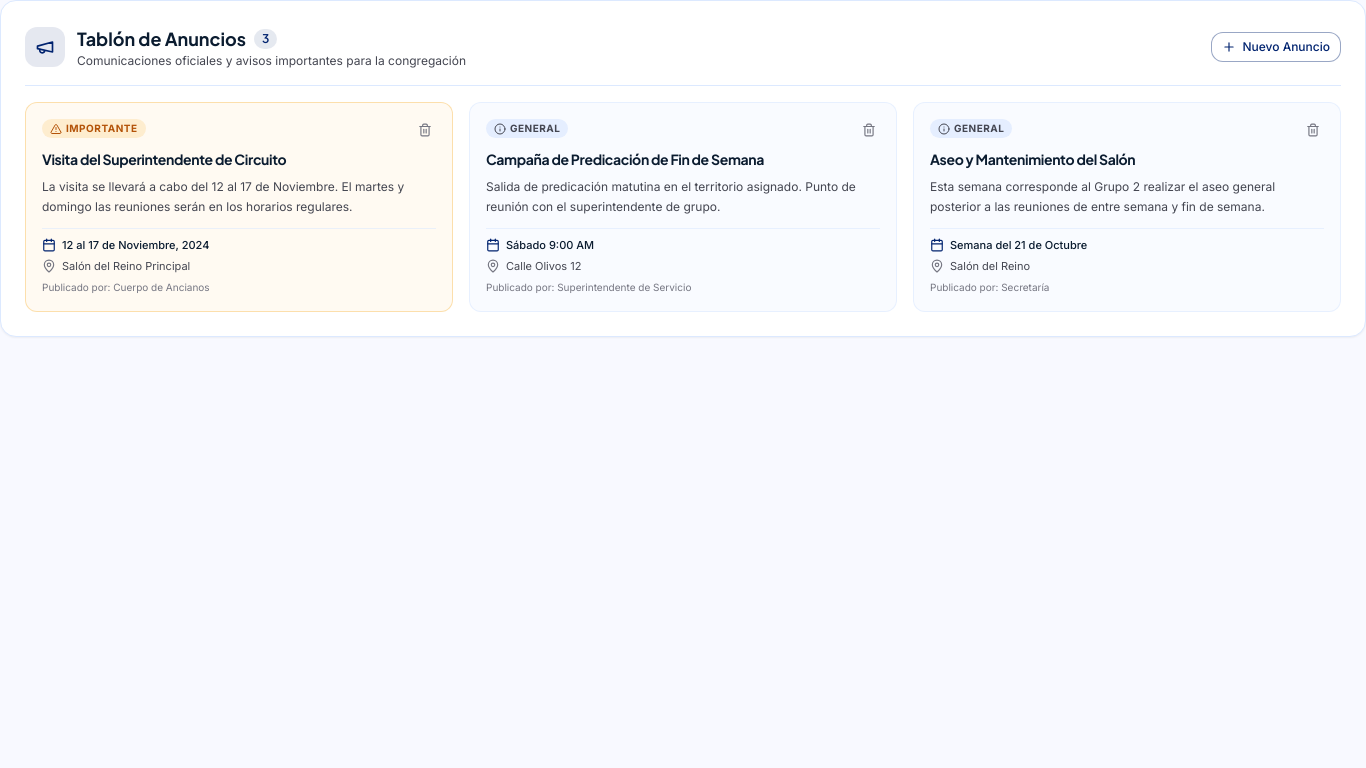
Test: AnnouncementsBoard organism › muestra el botón Nuevo Anuncio si canManage es true y permite crear uno nuevo
Click the button "Nuevo Anuncio" at (1276, 47), box [1211, 32, 1341, 62]
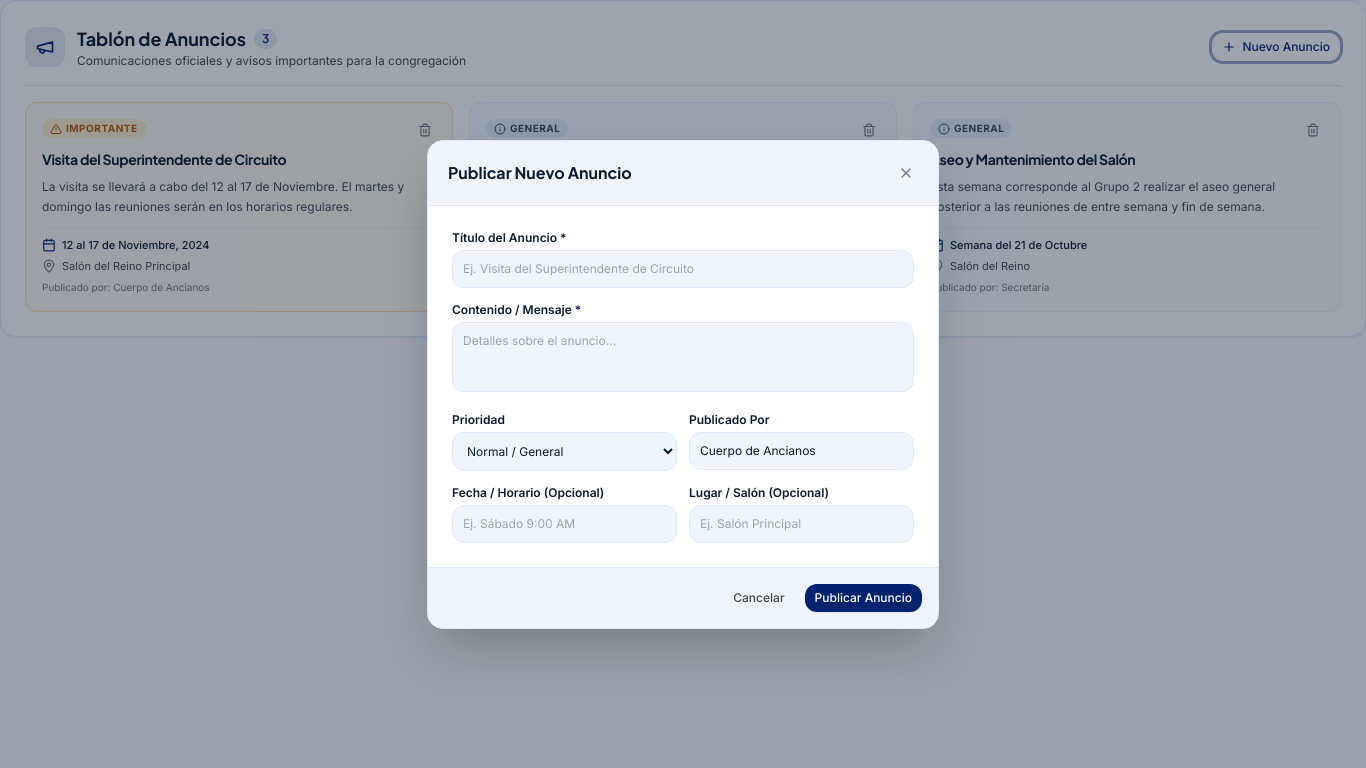
Expected: the heading "Publicar Nuevo Anuncio" is shown, [448, 160, 632, 184]
Type "Asamblea de Circuito Especial" into the field with placeholder "Ej. Visita del Superintendente de Circuito" at (683, 268), box [452, 250, 914, 288]
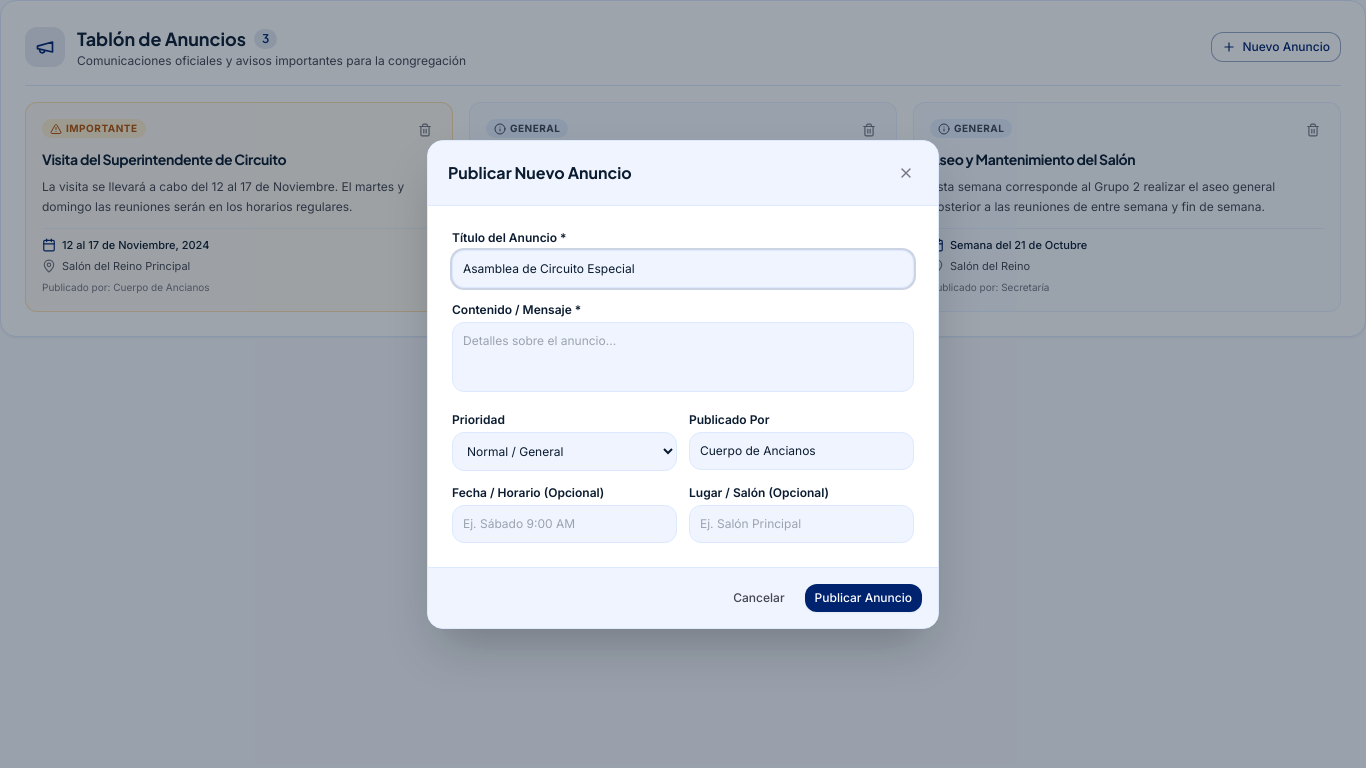
Type "La asamblea será el próximo mes." into the text box with placeholder "Detalles sobre el anuncio..." at (683, 356), box [452, 322, 914, 392]
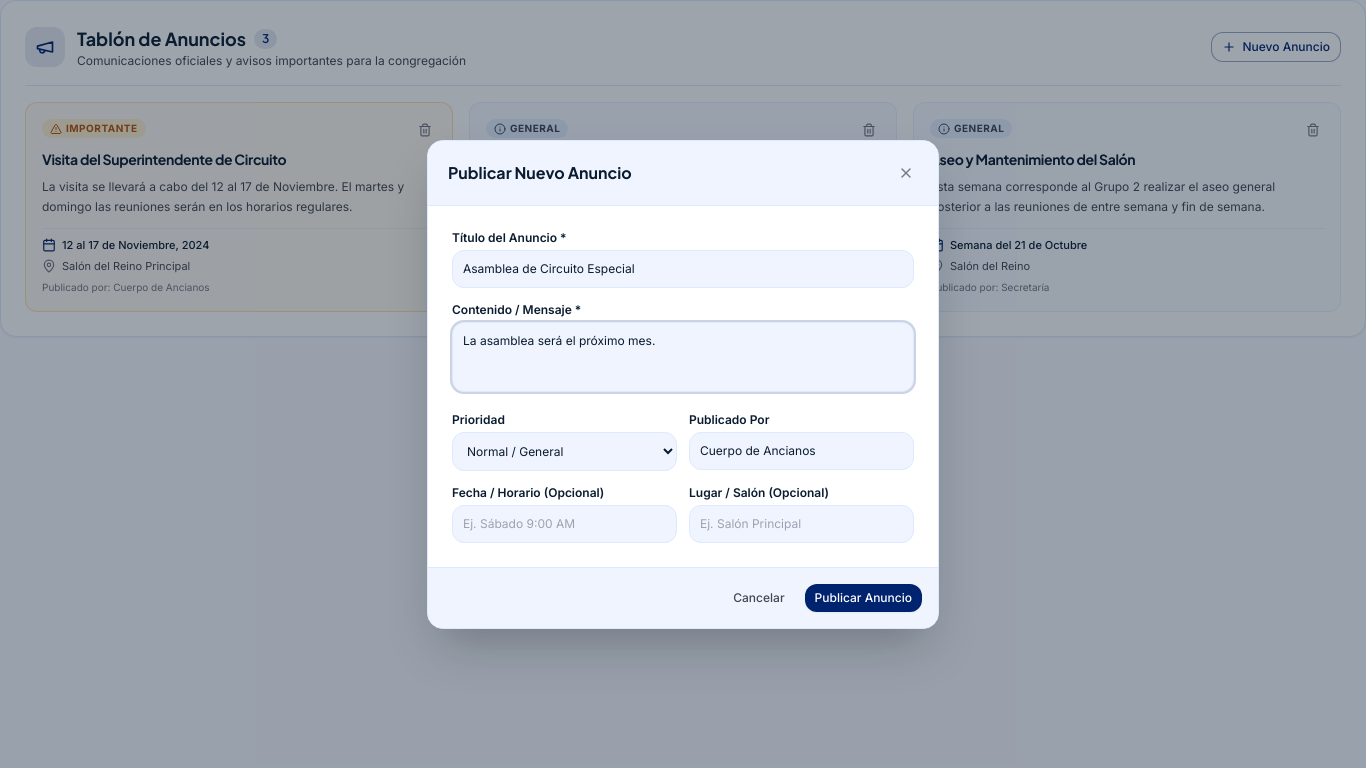
Click the button "Publicar Anuncio" at (863, 598), box [804, 584, 922, 612]
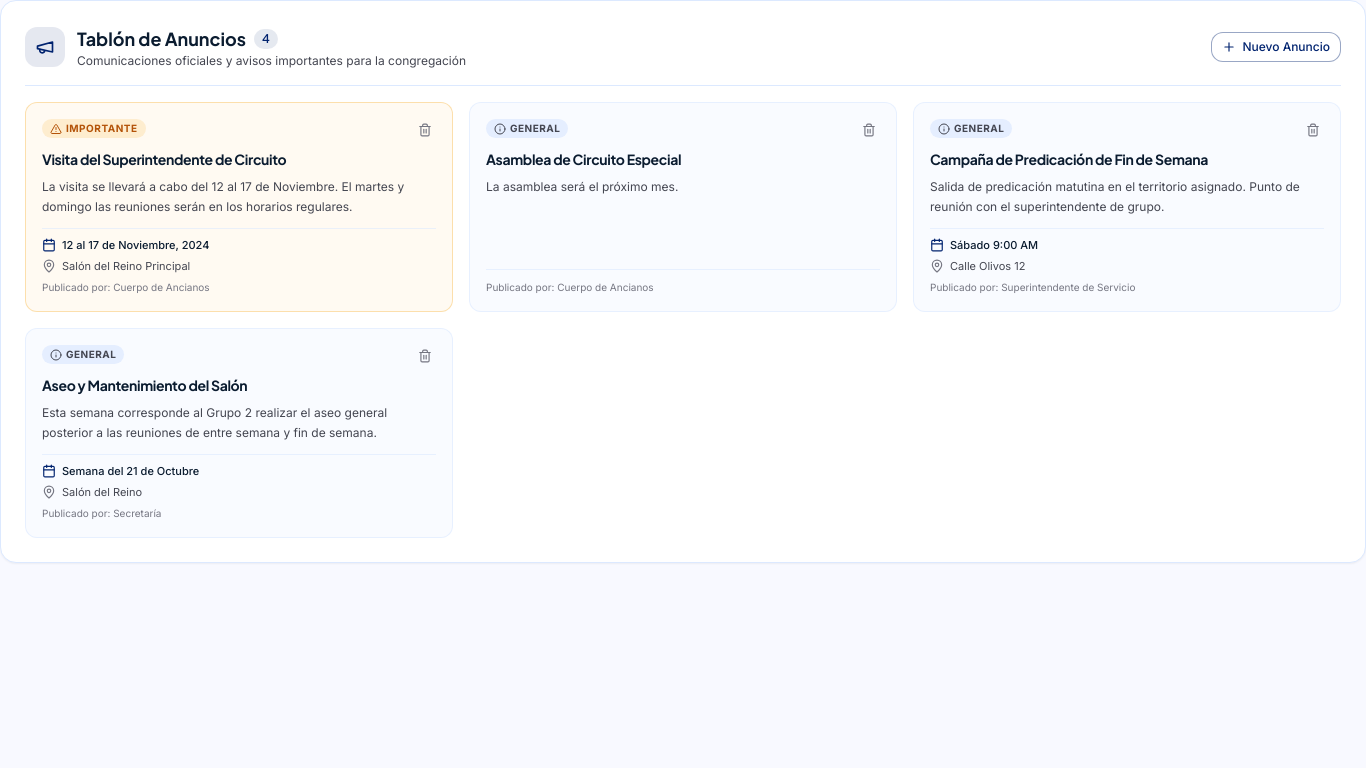
Expected: the heading "Asamblea de Circuito Especial" is shown, [486, 150, 681, 168]
